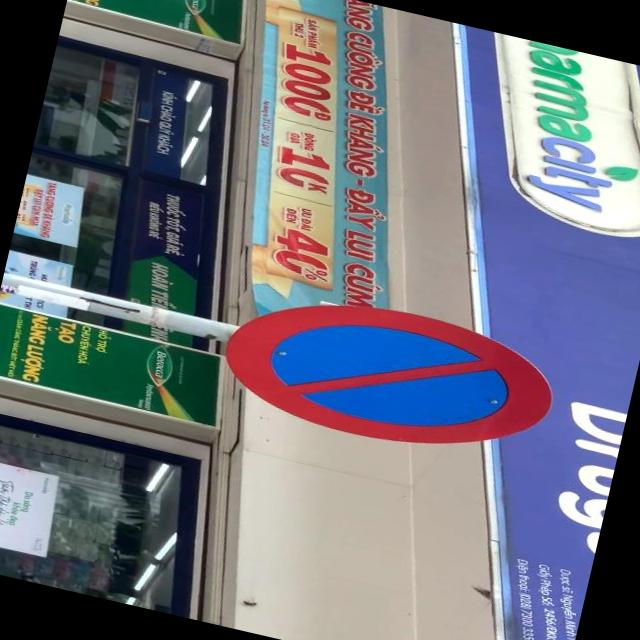P-131a: (214, 274, 564, 474)
